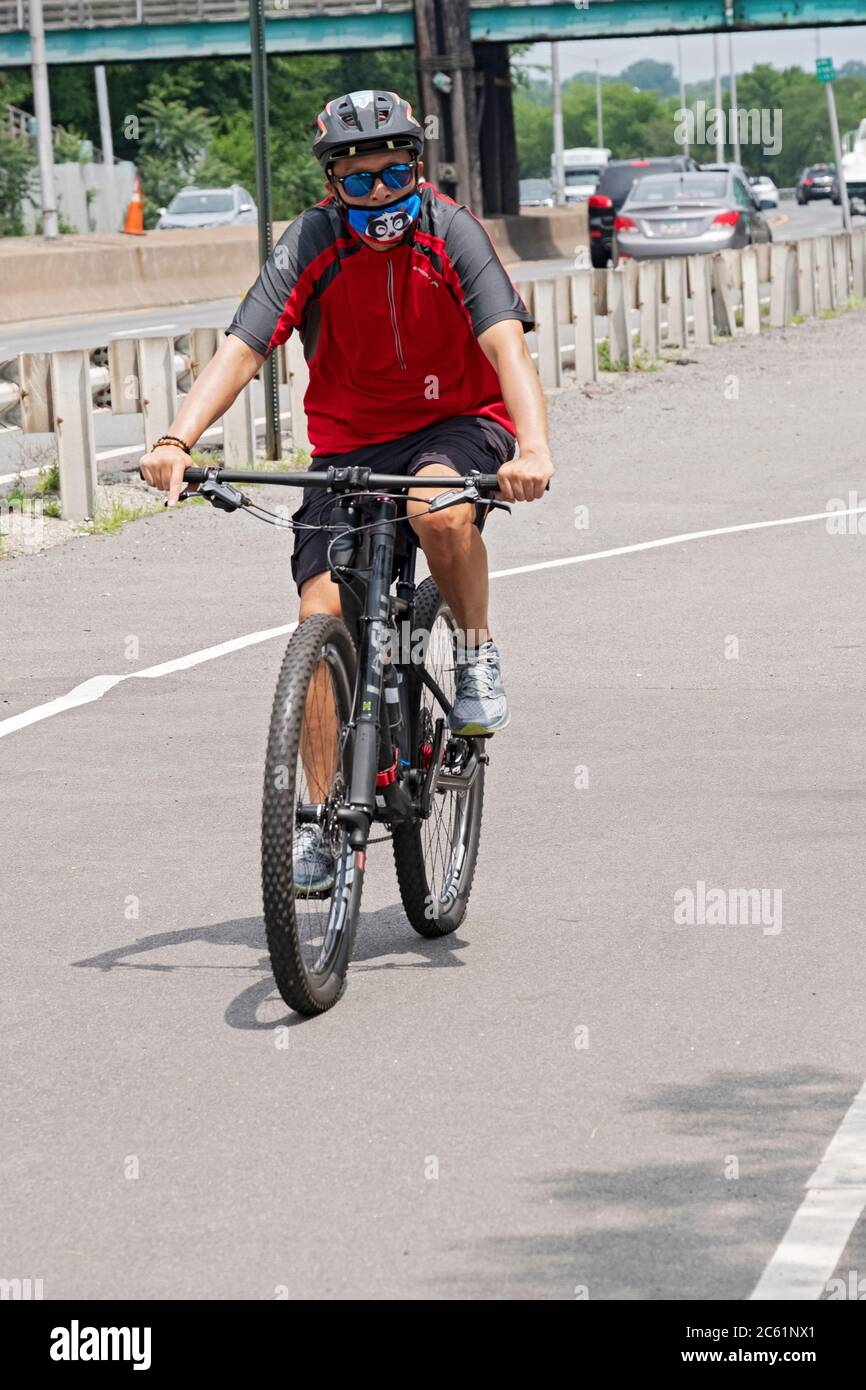helmet: (311, 89, 425, 245)
